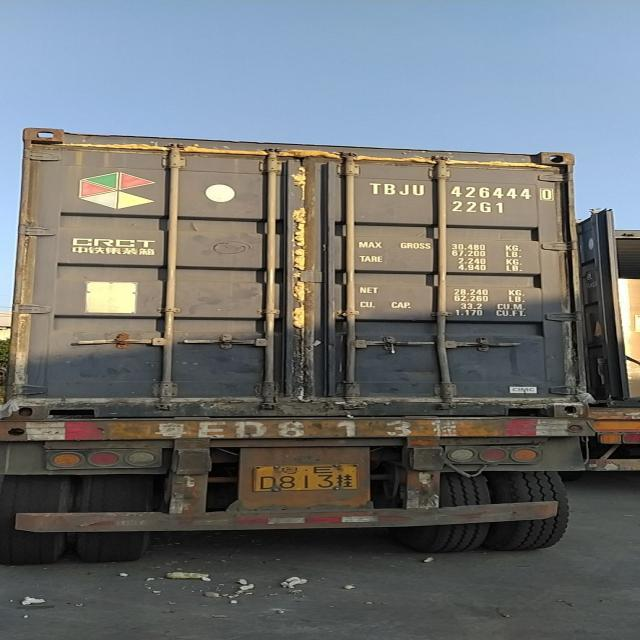ISO: (448, 196, 512, 214)
container_number: (361, 180, 551, 200)
